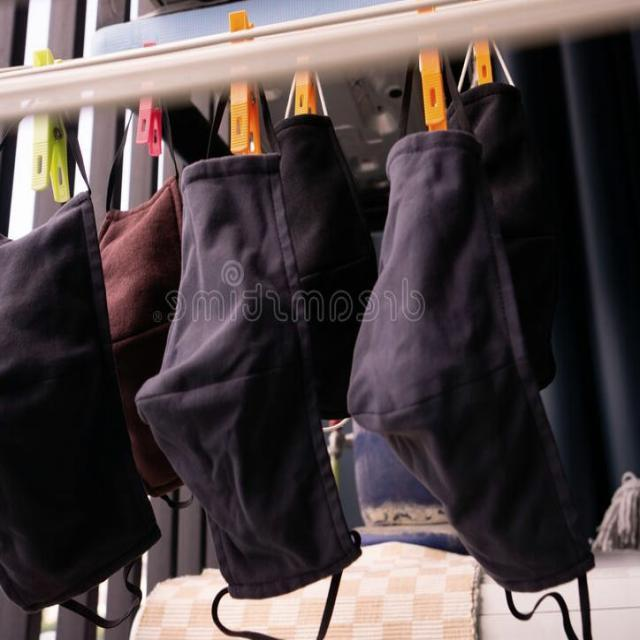clothes: (375, 137, 571, 578), (162, 131, 332, 616), (0, 193, 126, 630)
